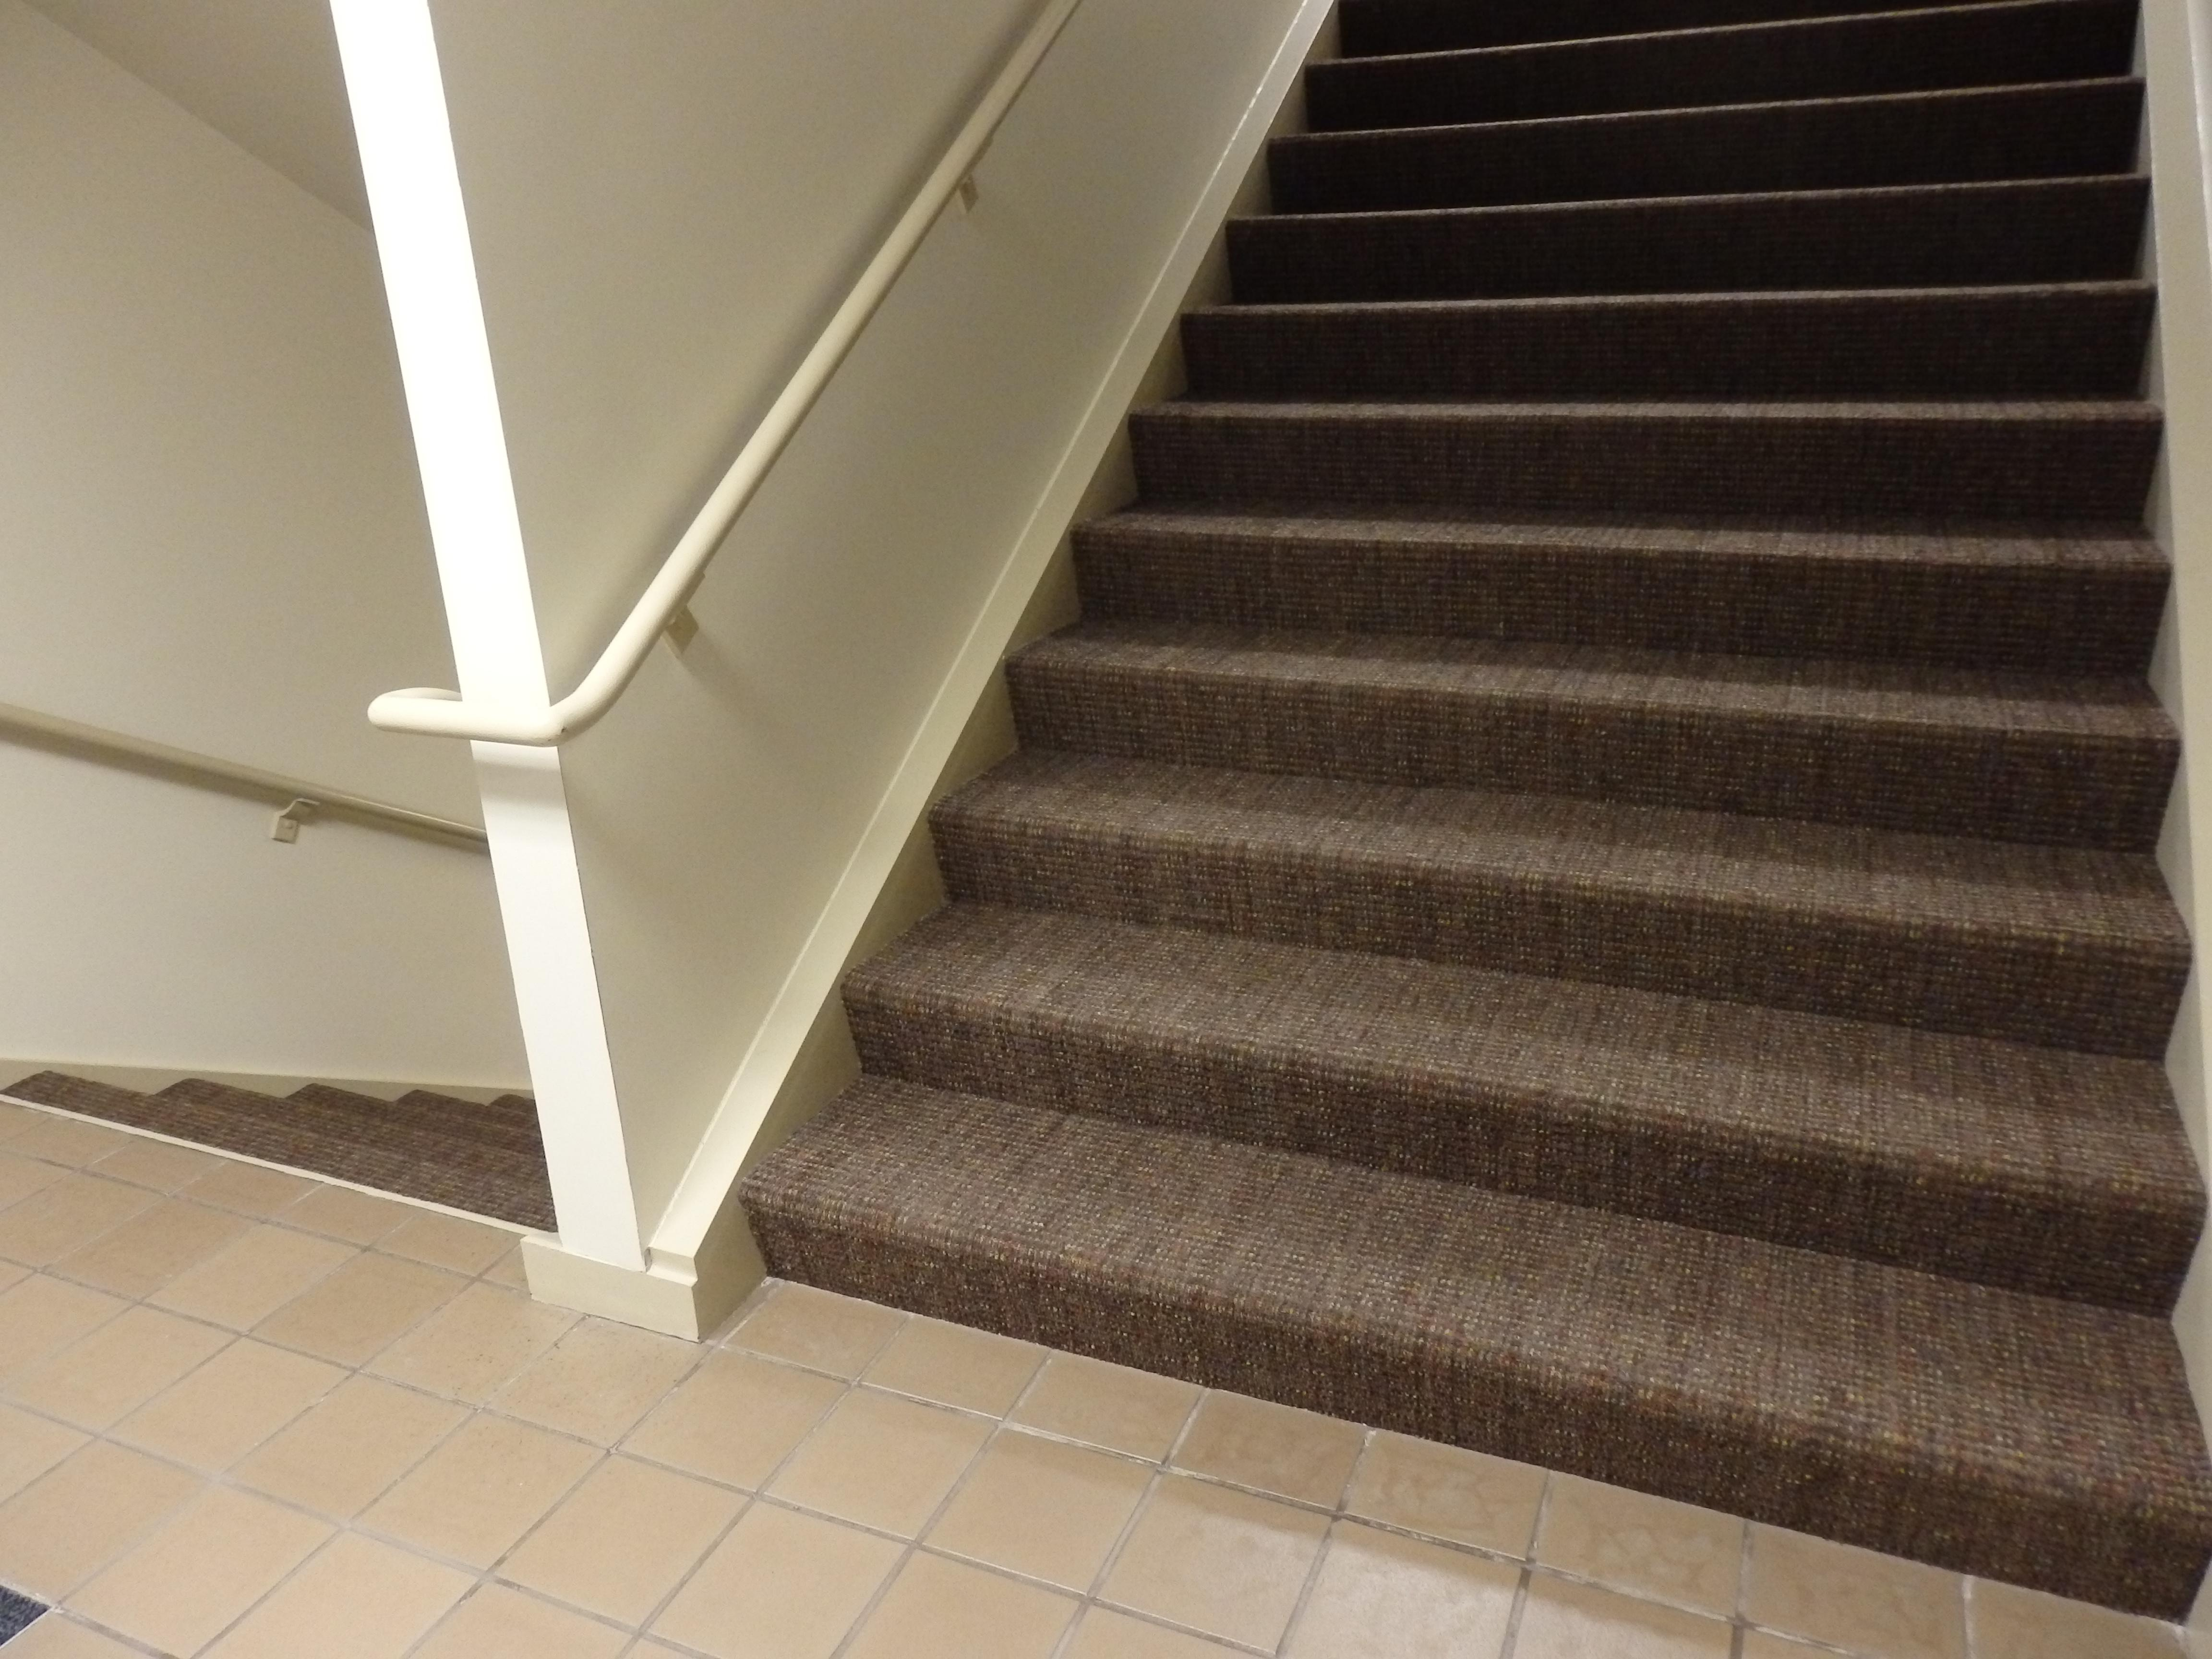stairs_up: (772, 61, 2177, 1521)
